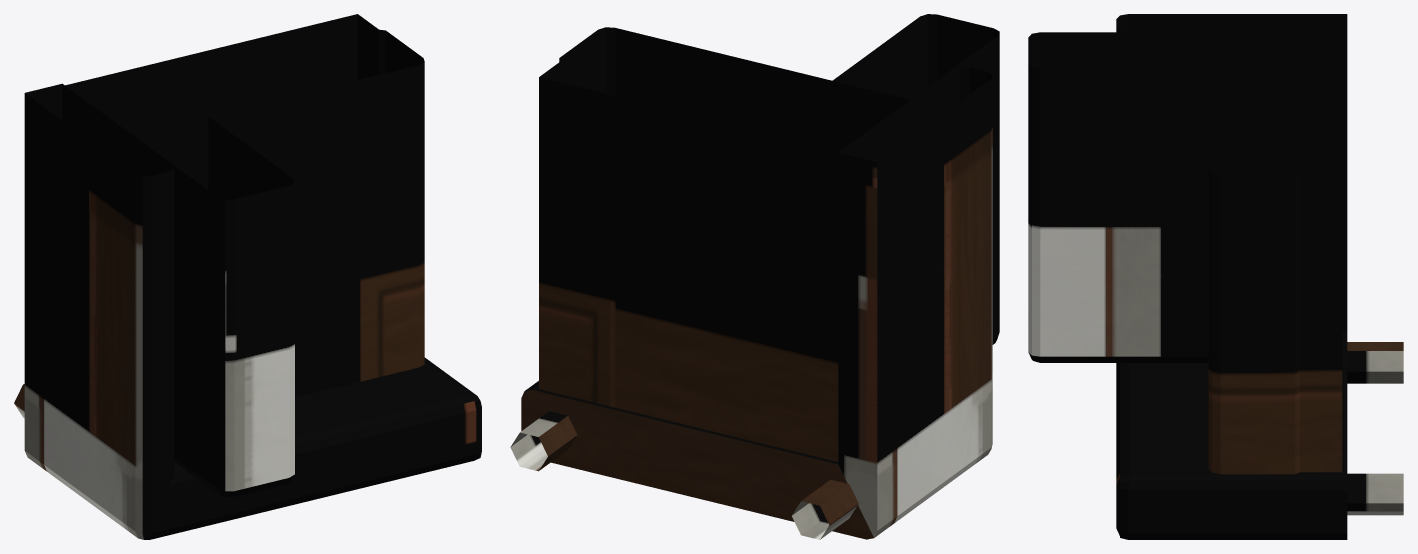
3 renders of one model, left to right at view 1: azimuth 30°, elevation 25°; view 2: azimuth 150°, elevation 25°; view 3: azimuth 270°, elevation 25°, orthographic. The views are drawn at different scales.
Bounding box in the file's own units: 0.8199 × 0.8358 × 0.7807.
